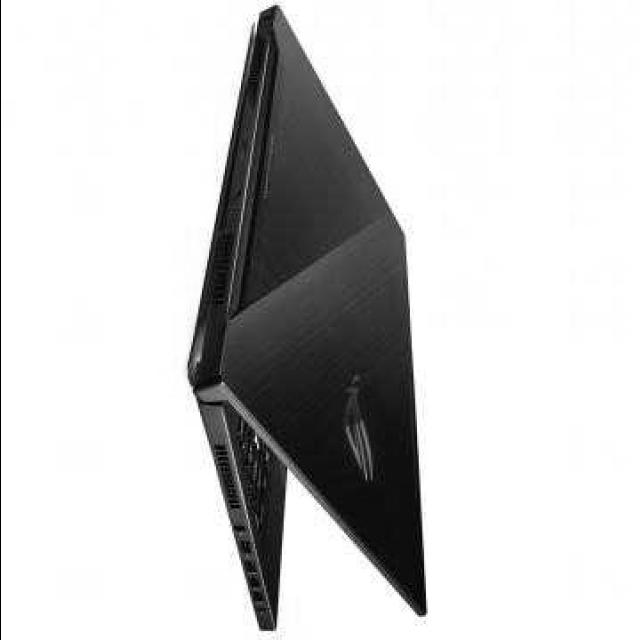laptop: (145, 32, 430, 640)
